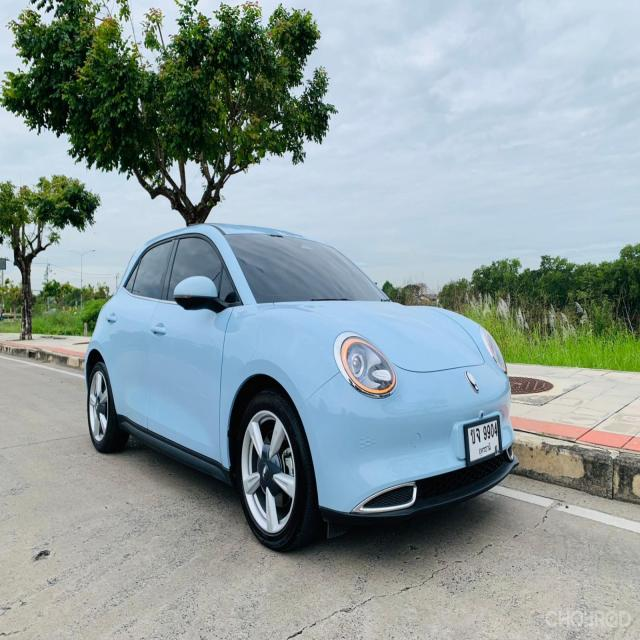license_plate: (463, 415, 503, 469)
